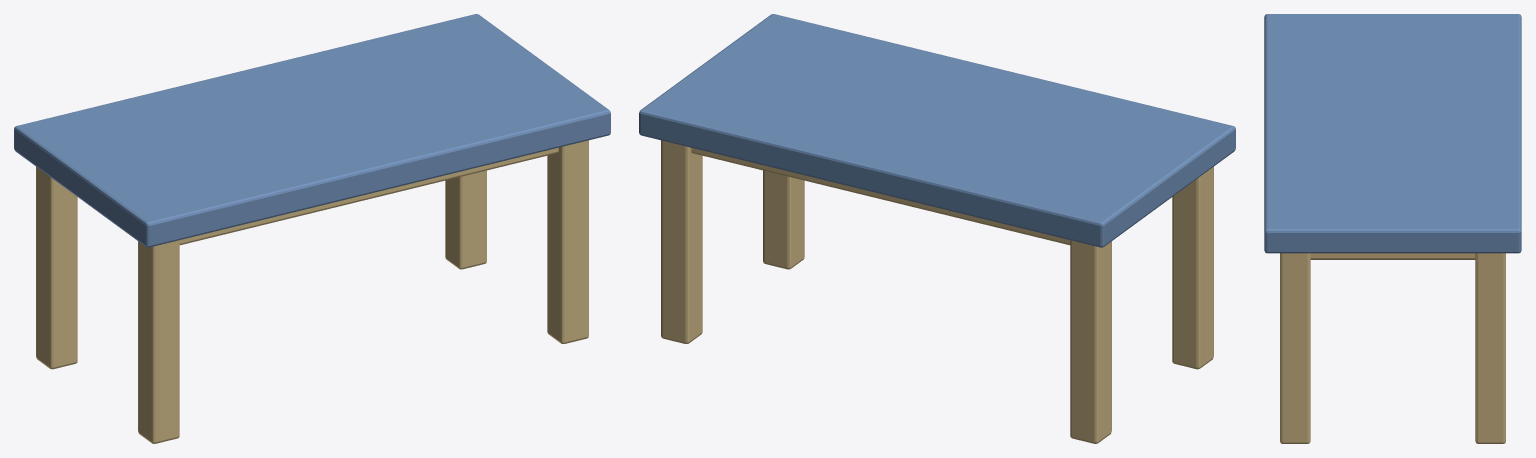
The picture shows the model from 3 angles, left to right: view 1: azimuth 30°, elevation 25°; view 2: azimuth 150°, elevation 25°; view 3: azimuth 270°, elevation 25°; orthographic projection. The views are drawn at different scales.
Visible parts, largest first — view 1: 테이블 · Workshop Table; view 2: 테이블 · Workshop Table; view 3: 테이블 · Workshop Table.
Part boxes in pixels (x1,y1,x2,y2): 테이블 · Workshop Table: (14, 14, 610, 443); 테이블 · Workshop Table: (639, 14, 1235, 443); 테이블 · Workshop Table: (1264, 14, 1521, 443).
Bounding box in the file's own units: 1.6 × 0.76 × 0.8.
